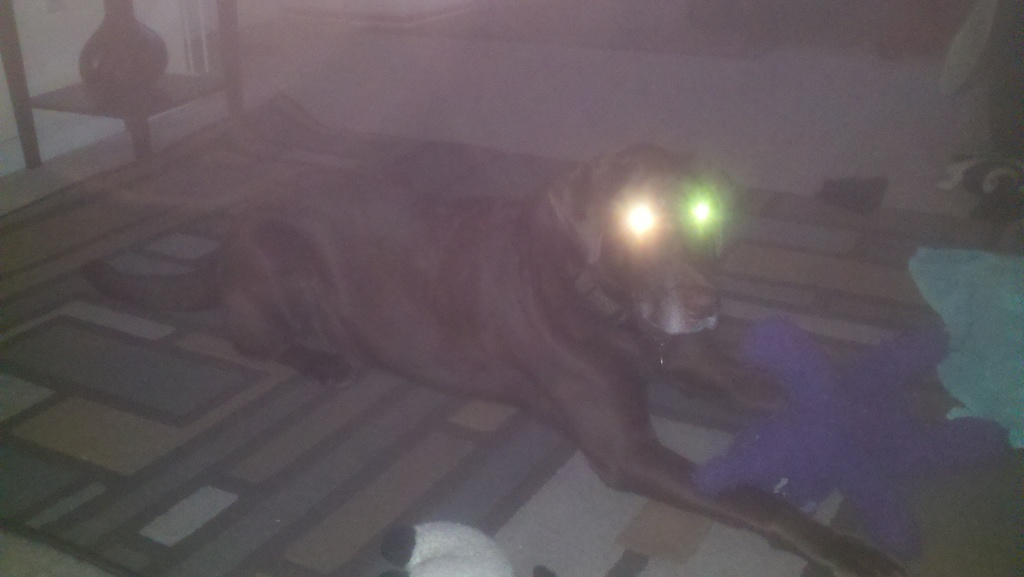Animal: (78, 142, 907, 575), (689, 307, 1015, 574)
